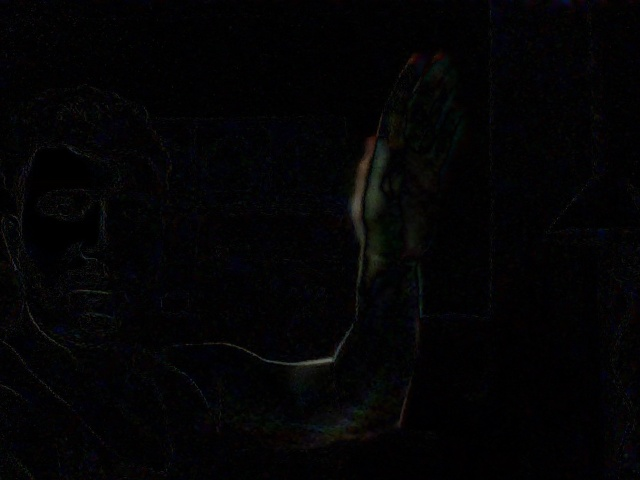arm_fo: (326, 96, 470, 477)
